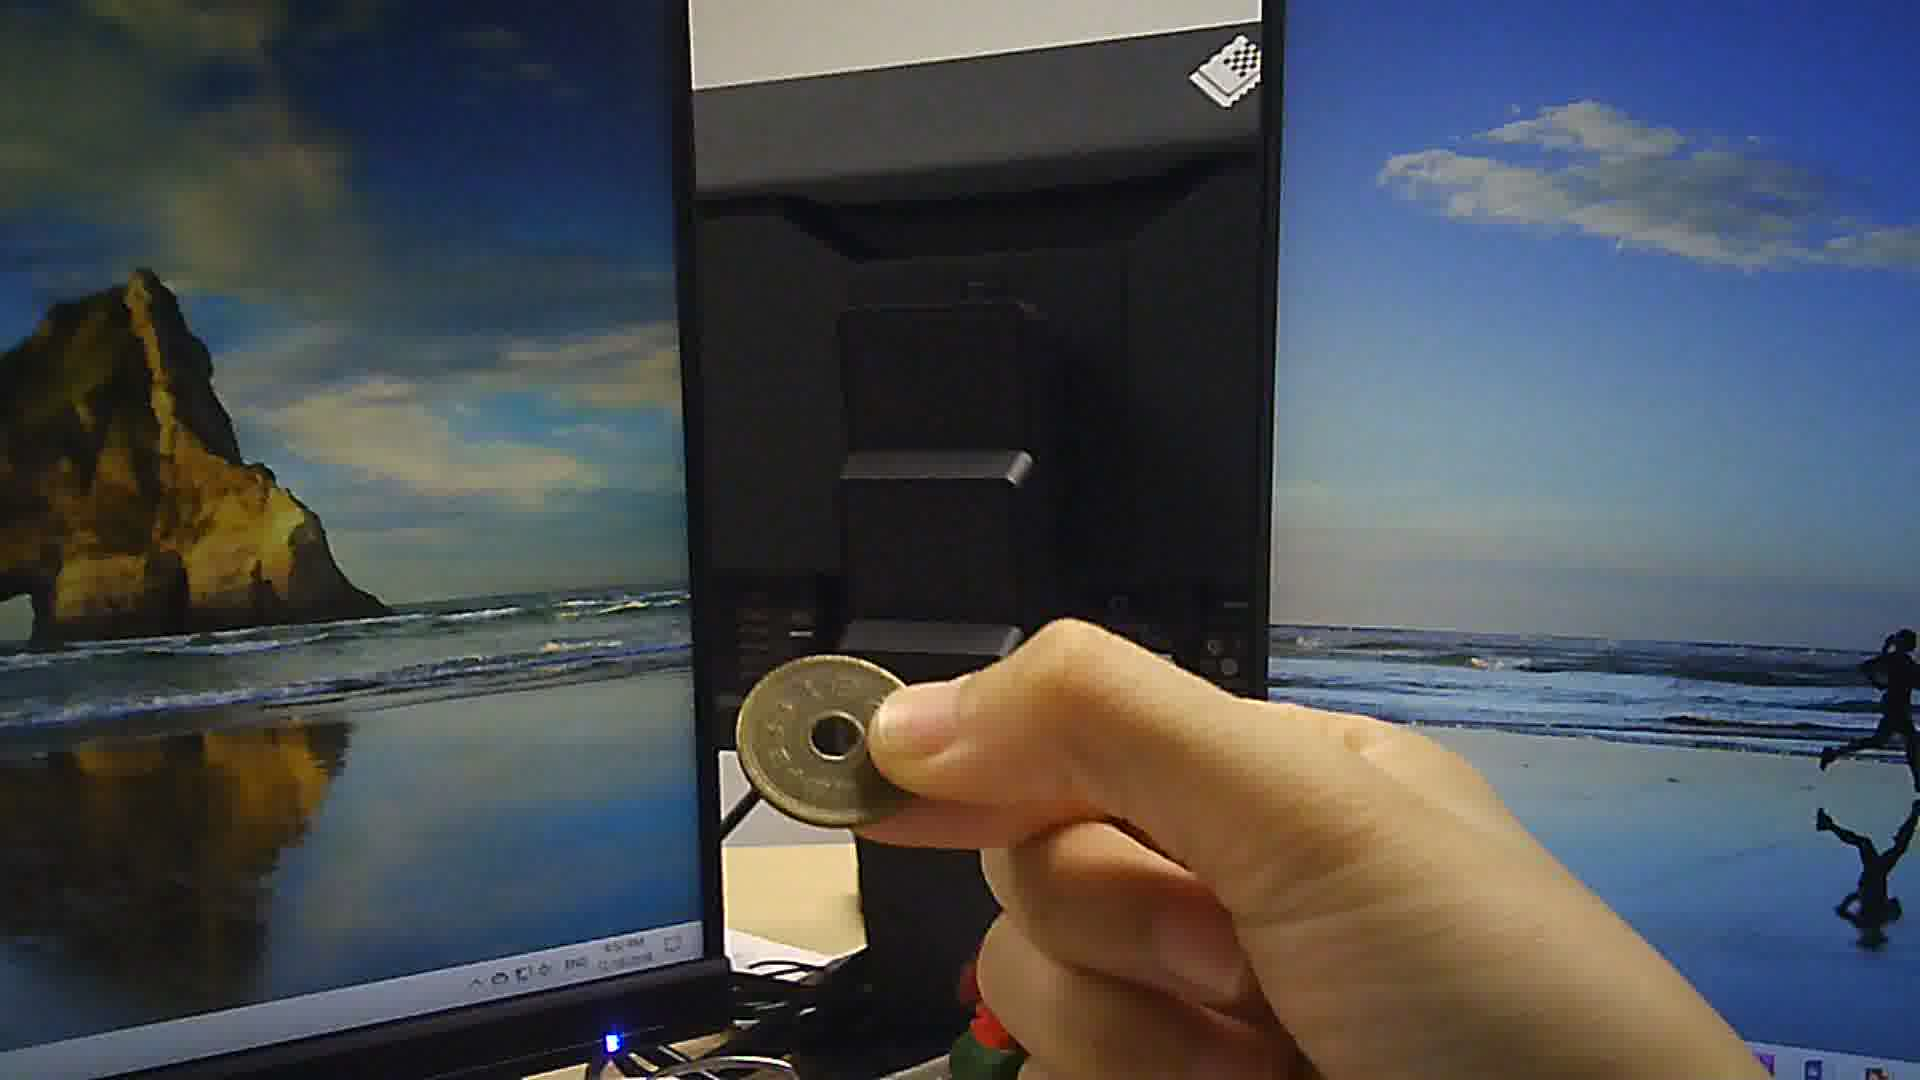5 Yen: (733, 644, 924, 825)
